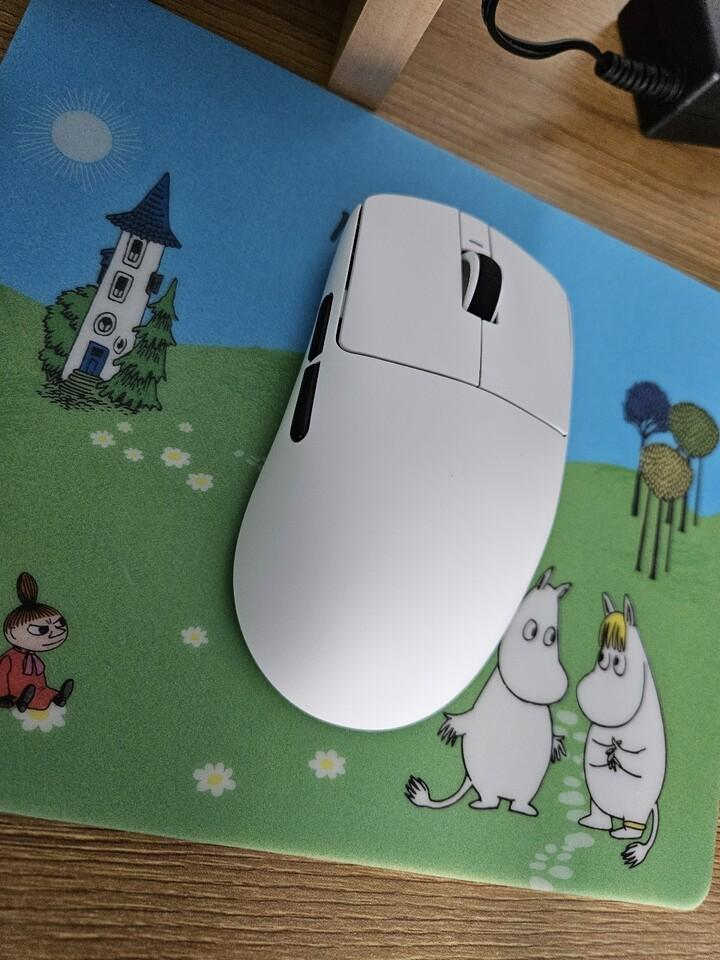mouse: (230, 191, 574, 732)
